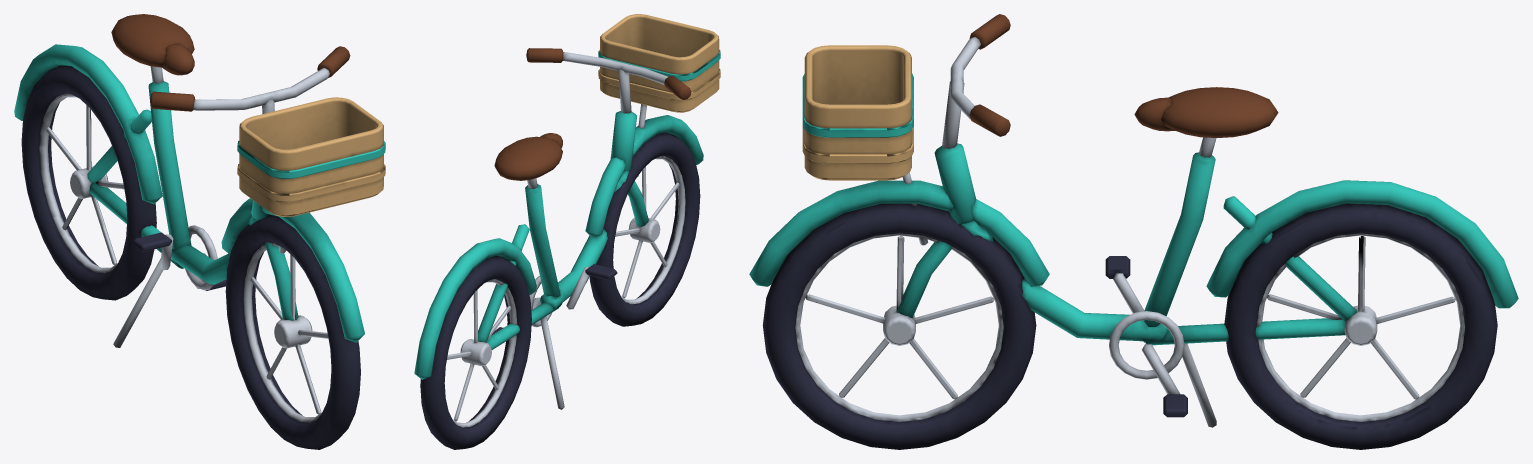
The model's file is bicycle.glb.
3 renders of one model, left to right at view 1: azimuth 30°, elevation 25°; view 2: azimuth 150°, elevation 25°; view 3: azimuth 270°, elevation 25°, orthographic. The views are drawn at different scales.
Visible parts, largest first — view 1: bicycle; view 2: bicycle; view 3: bicycle.
Part boxes in pixels (x1,y1,x2,y2): bicycle: (14, 14, 385, 449); bicycle: (414, 14, 720, 449); bicycle: (749, 14, 1518, 449).
Size of the model in its own units: 0.6287 by 1.02 by 1.87.
Materials: 6 (6 with a texture image).
